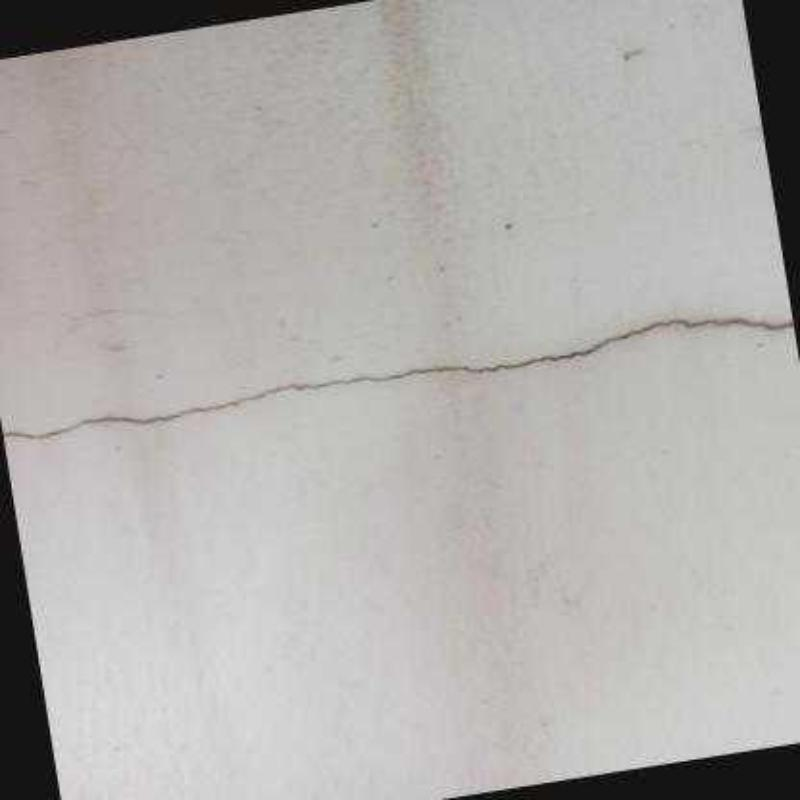pothole: (1, 320, 792, 439)
